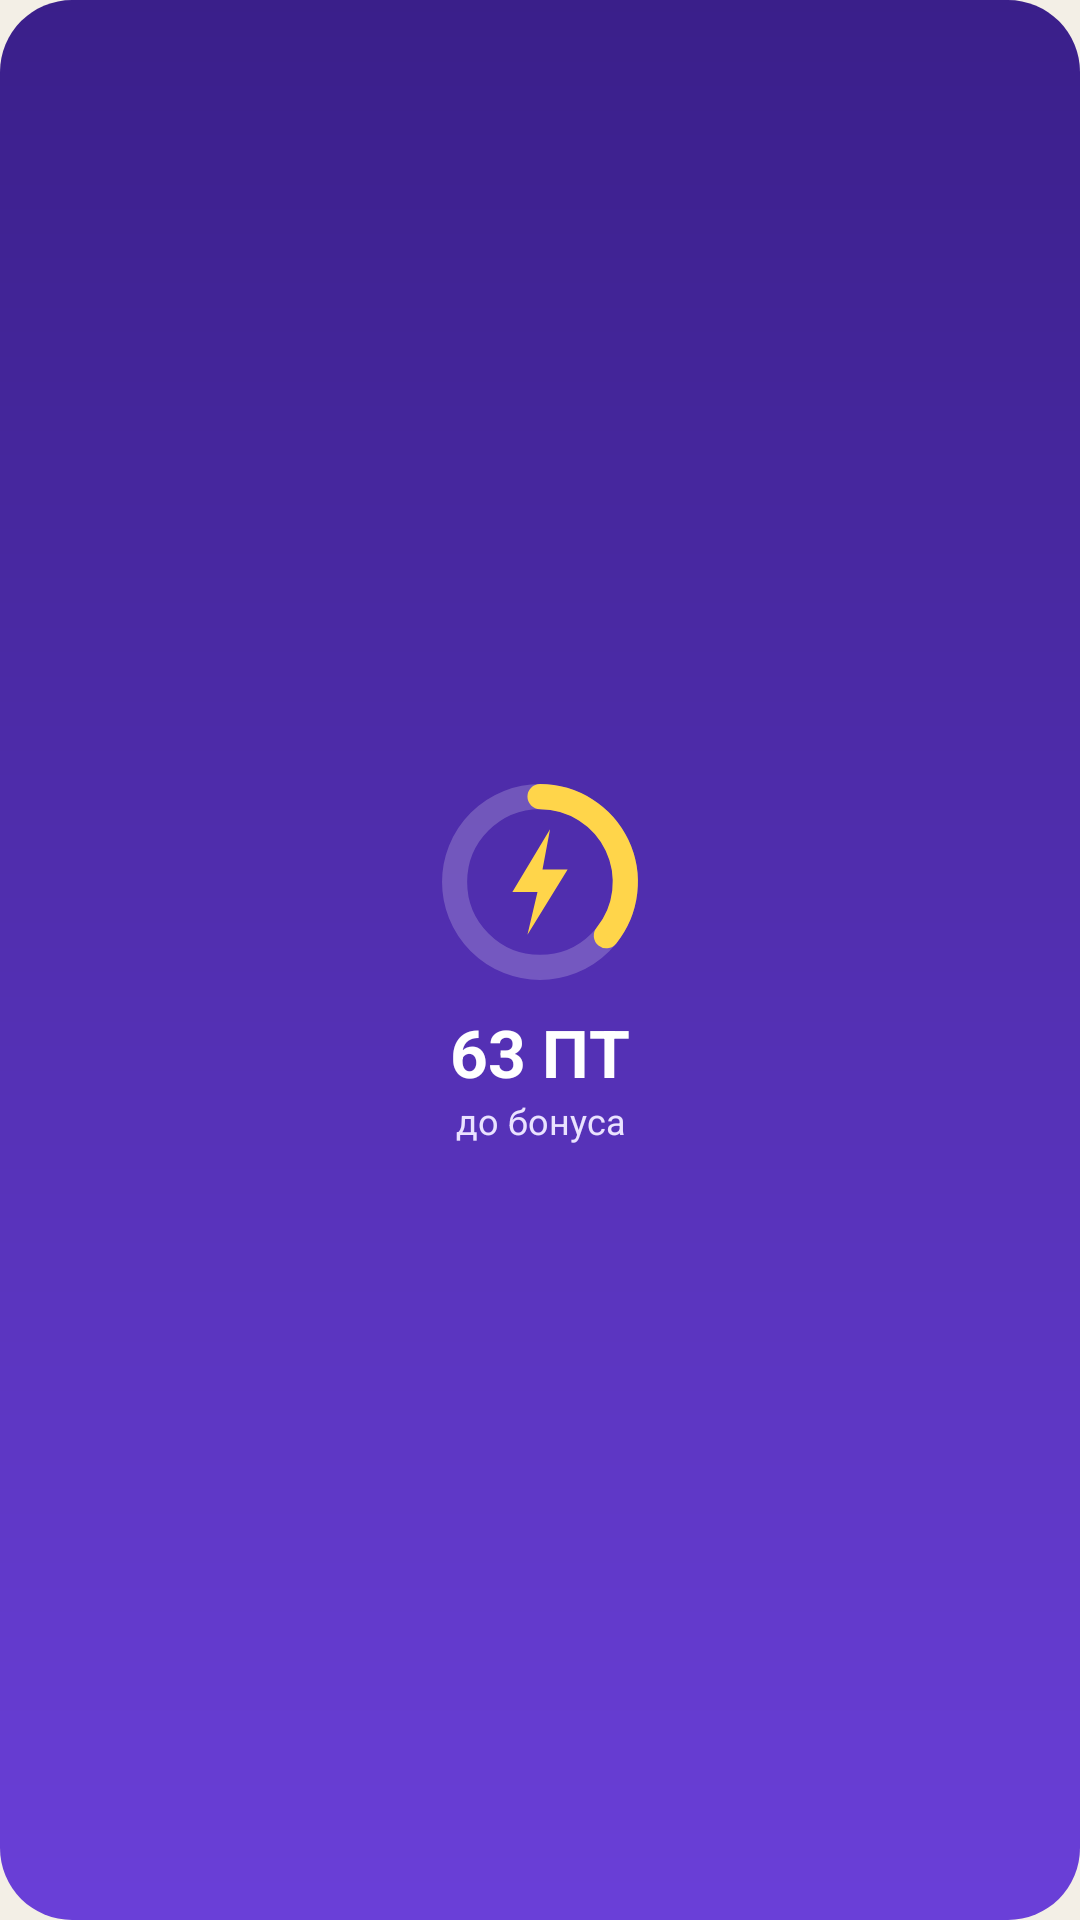

Locate icon controls on the screen. Image size 1080px x 1920px, boxes as (x1, y1, x2, y2).
Кольцо до следующей ступени: (442, 784, 638, 980)
